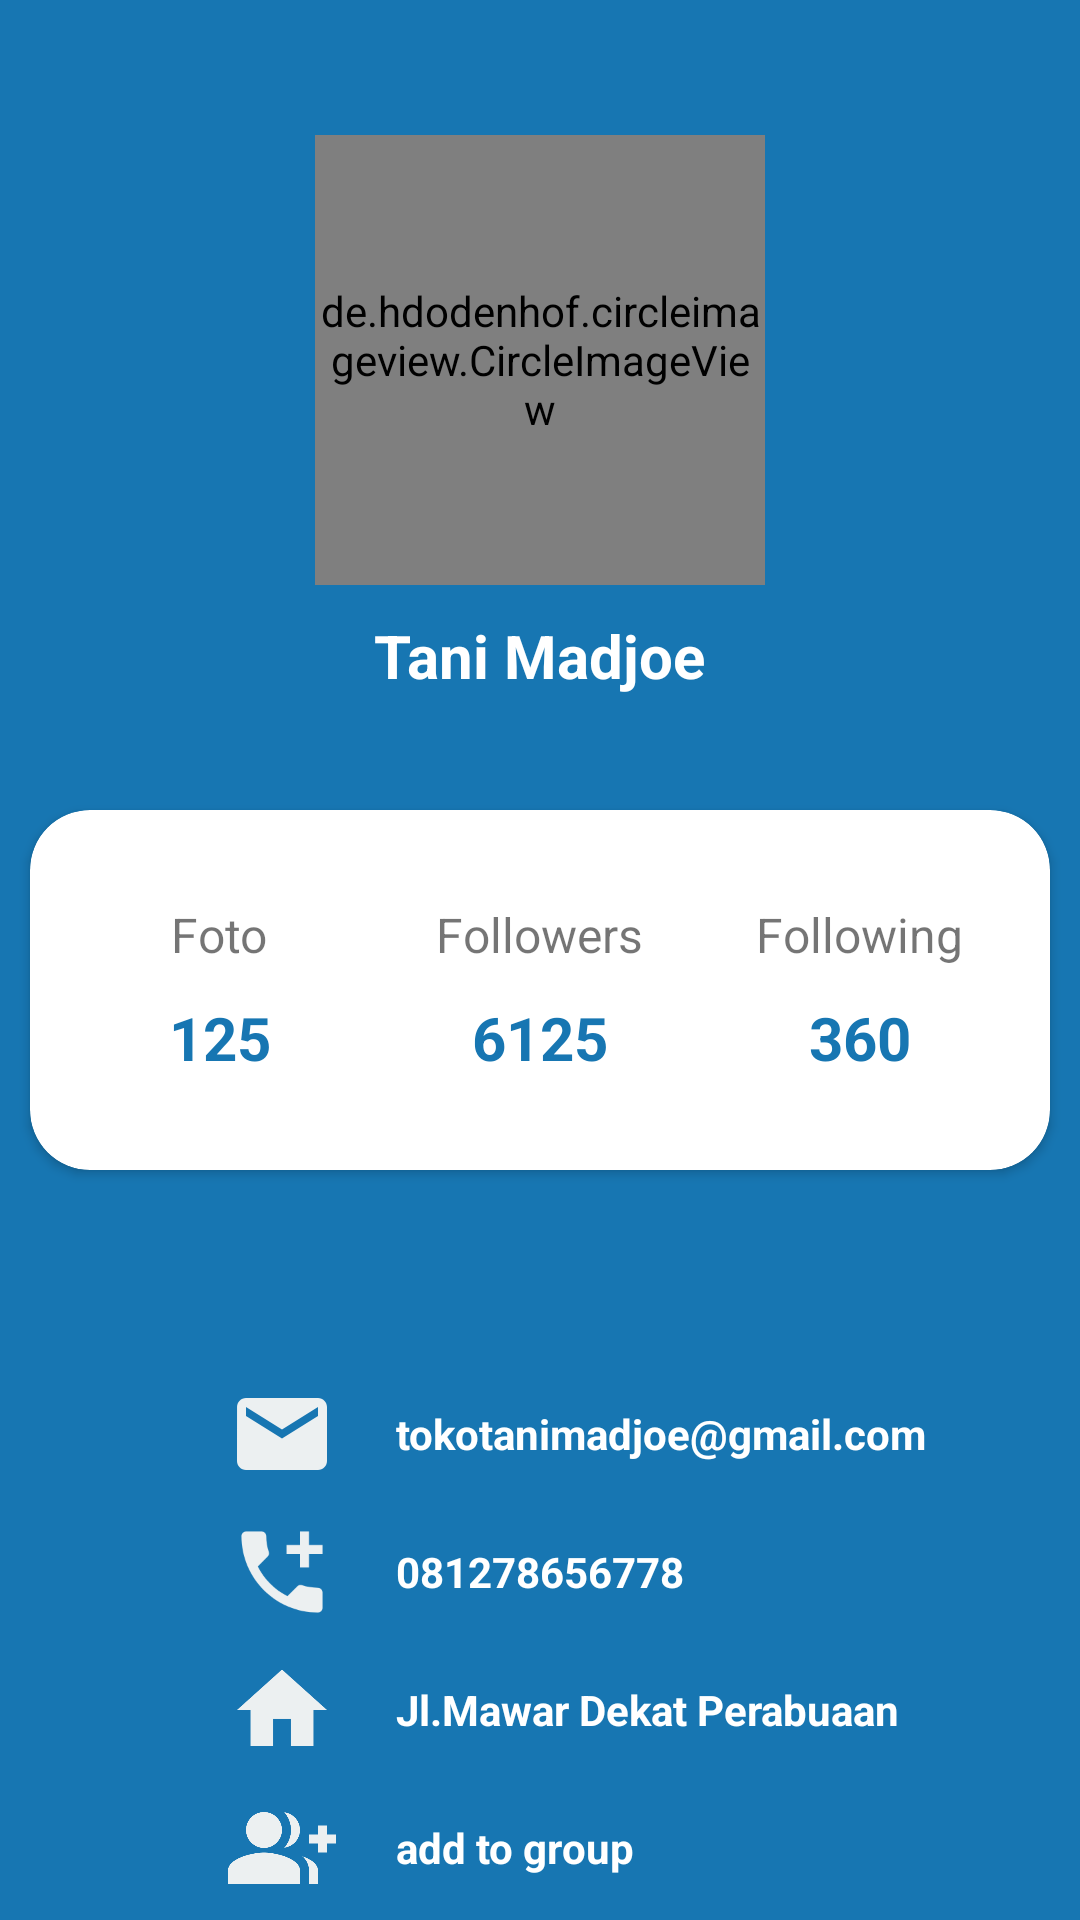

Icons on this 1080x1920 Android screen, each with the point to tap as (x=x, y=y):
add call: (x=282, y=1572)
email: (x=282, y=1434)
home: (x=282, y=1708)
